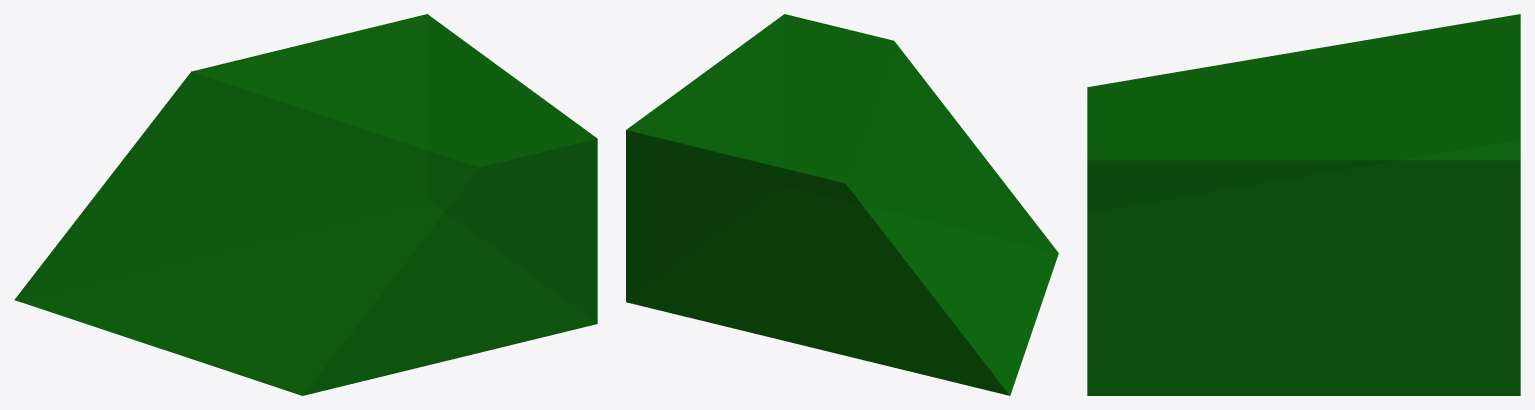
3 views of the same model, side by side, from view 1: azimuth 30°, elevation 25°; view 2: azimuth 150°, elevation 25°; view 3: azimuth 270°, elevation 25° (orthographic). The views are drawn at different scales.
Parts seen in each view (by area): view 1: SketchUp; view 2: SketchUp; view 3: SketchUp.
Boxes of the visible parts, x1,y1,x2,y2 form: SketchUp: (14,14,597,395); SketchUp: (626,14,1058,395); SketchUp: (1087,14,1520,395).
Size of the model in its own units: 276 by 197 by 118.
